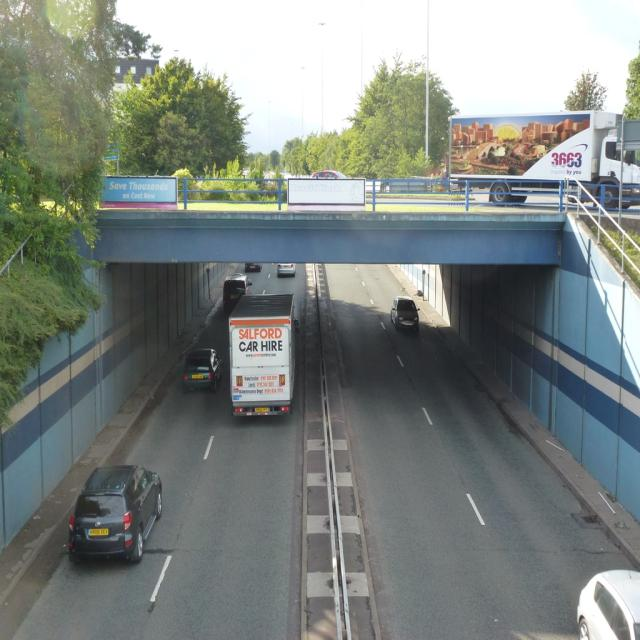car: (60, 468, 154, 574), (180, 345, 222, 393), (388, 292, 420, 333)
